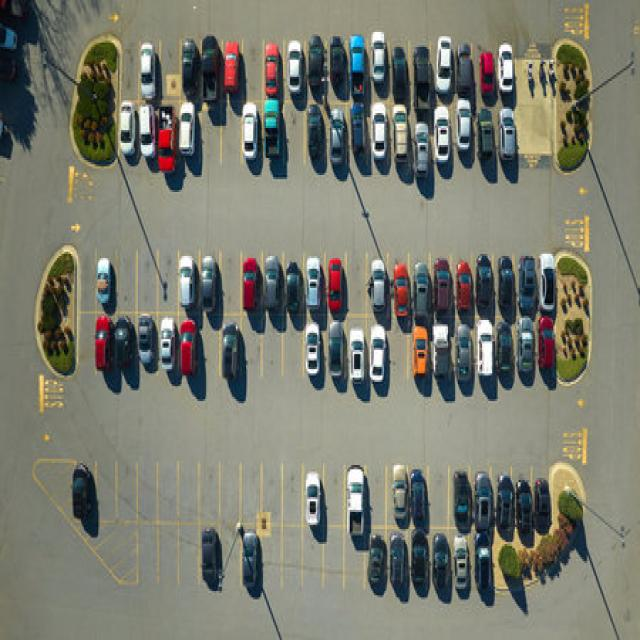libre: (96, 457, 305, 530), (265, 527, 372, 605), (99, 536, 197, 610), (247, 329, 309, 395), (117, 248, 178, 311), (202, 107, 236, 183), (75, 262, 97, 367), (285, 111, 304, 190), (391, 322, 412, 390), (159, 35, 181, 99), (325, 460, 345, 530), (241, 30, 262, 94), (225, 252, 243, 316), (431, 463, 447, 527), (350, 252, 364, 316), (124, 41, 139, 98), (373, 468, 387, 527)
ocupado: (264, 38, 517, 108), (306, 106, 521, 184), (368, 254, 562, 324), (411, 313, 559, 392), (370, 532, 497, 606), (450, 465, 555, 544), (95, 310, 201, 388), (240, 252, 346, 324), (120, 93, 200, 186), (304, 317, 393, 392), (180, 37, 243, 102), (177, 244, 226, 321), (240, 99, 287, 175), (385, 457, 429, 533), (343, 454, 372, 547), (201, 527, 227, 599), (242, 523, 265, 602), (70, 460, 95, 530), (303, 465, 327, 529), (222, 320, 244, 384), (141, 40, 159, 100), (97, 254, 115, 314)
